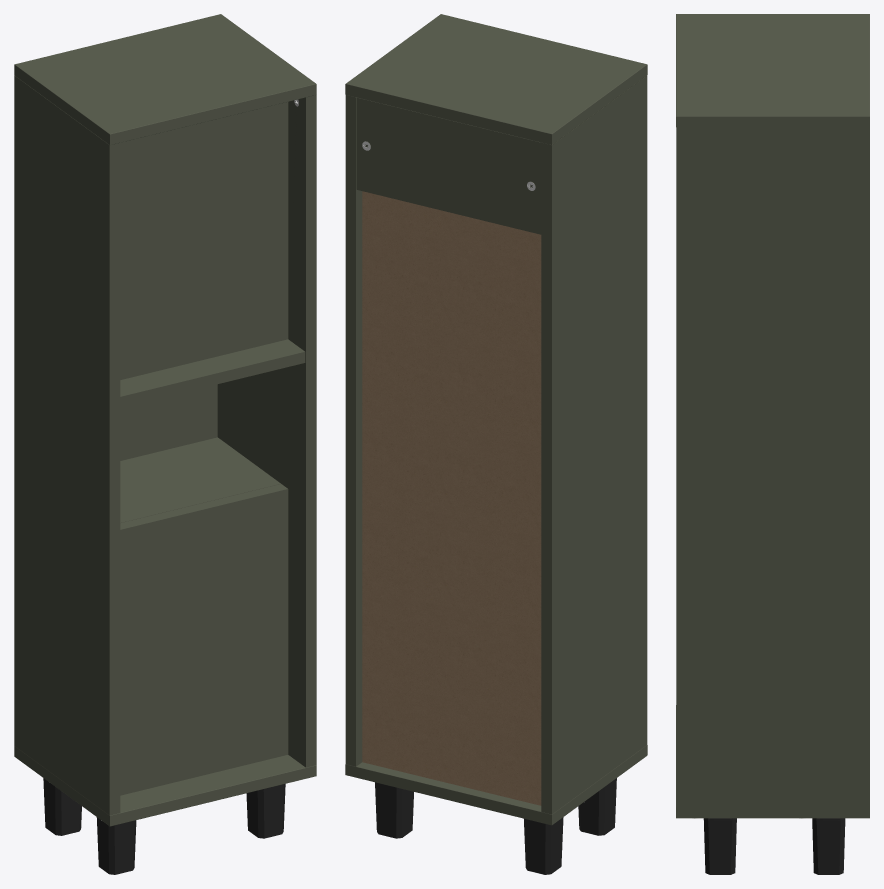
3 views of the same model, side by side, from view 1: azimuth 30°, elevation 25°; view 2: azimuth 150°, elevation 25°; view 3: azimuth 270°, elevation 25° (orthographic).
Visible parts, largest first — view 1: SketchUp.002, Cube.001, SketchUp.064, Cube.006, Cube.003, SketchUp.163, SketchUp.054; view 2: SketchUp.167, SketchUp.002, Cube.001, Cube.002, Cube.003, Cube.006; view 3: SketchUp.002, Cube.001, Cube.003, Cube.006.
Part boxes in pixels (x1,y1,x2,y2): SketchUp.002: [14, 75, 316, 815]; Cube.001: [14, 14, 316, 144]; SketchUp.064: [120, 437, 280, 522]; Cube.006: [14, 746, 316, 826]; Cube.003: [43, 778, 285, 874]; SketchUp.163: [120, 384, 217, 460]; SketchUp.054: [120, 339, 305, 407]; SketchUp.167: [362, 191, 541, 805]; SketchUp.002: [345, 75, 647, 814]; Cube.001: [345, 14, 647, 144]; Cube.002: [356, 97, 541, 234]; Cube.003: [375, 778, 616, 874]; Cube.006: [345, 745, 647, 825]; SketchUp.002: [676, 127, 869, 807]; Cube.001: [676, 14, 869, 127]; Cube.003: [703, 818, 845, 874]; Cube.006: [676, 705, 869, 818].
Size of the model in its own units: 0.3501 by 1.22 by 0.2803.
Materials: 13 (7 with a texture image).
